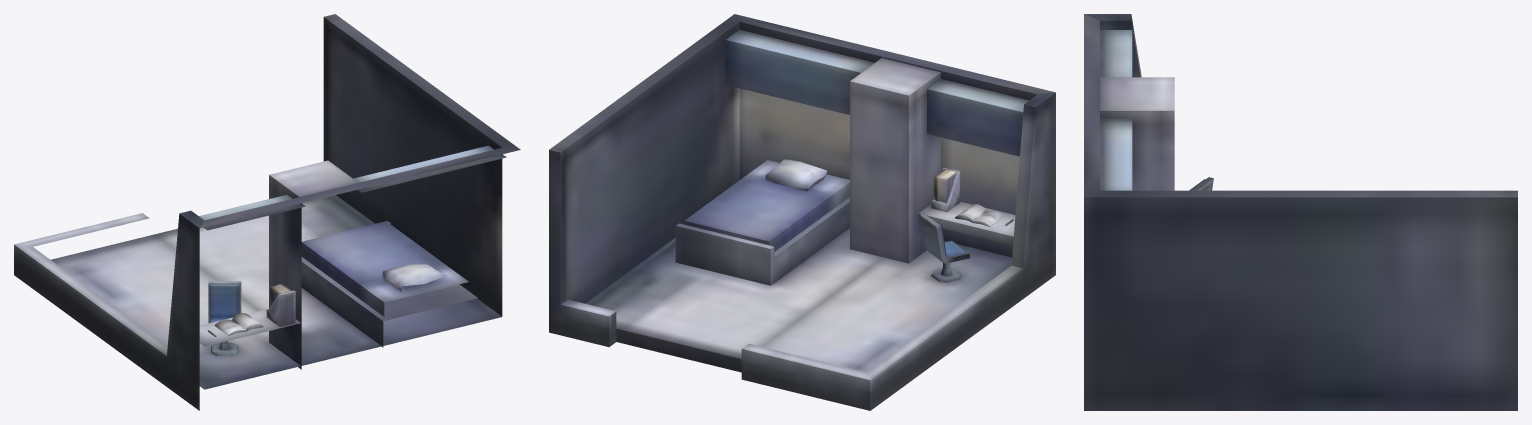
Rendered from febg_silvergunfactory_001_01.glb.
3 renders of one model, left to right at view 1: azimuth 30°, elevation 25°; view 2: azimuth 150°, elevation 25°; view 3: azimuth 270°, elevation 25°, orthographic. The views are drawn at different scales.
Visible parts, largest first — view 1: febg_silvergunfactory_001_bg_01, febg_silvergunfactory_001_chair_01, febg_silvergunfactory_001_pillow_01, febg_silvergunfactory_001_book_01, febg_silvergunfactory_001_book_02; view 2: febg_silvergunfactory_001_bg_01, febg_silvergunfactory_001_chair_01, febg_silvergunfactory_001_pillow_01, febg_silvergunfactory_001_book_01, febg_silvergunfactory_001_book_02; view 3: febg_silvergunfactory_001_bg_01.
Part boxes in pixels (left/top/right/bottom): febg_silvergunfactory_001_bg_01: left=14, top=14, right=520, bottom=410; febg_silvergunfactory_001_chair_01: left=208, top=281, right=241, bottom=355; febg_silvergunfactory_001_pillow_01: left=382, top=264, right=445, bottom=292; febg_silvergunfactory_001_book_01: left=266, top=284, right=295, bottom=326; febg_silvergunfactory_001_book_02: left=214, top=313, right=263, bottom=335; febg_silvergunfactory_001_bg_01: left=549, top=14, right=1055, bottom=410; febg_silvergunfactory_001_chair_01: left=919, top=213, right=970, bottom=282; febg_silvergunfactory_001_pillow_01: left=765, top=158, right=827, bottom=191; febg_silvergunfactory_001_book_01: left=931, top=167, right=960, bottom=211; febg_silvergunfactory_001_book_02: left=955, top=204, right=1003, bottom=226; febg_silvergunfactory_001_bg_01: left=1084, top=14, right=1517, bottom=410.
Size of the model in its own units: 7.37 by 4 by 7.37.
1 material, 1 textured.
